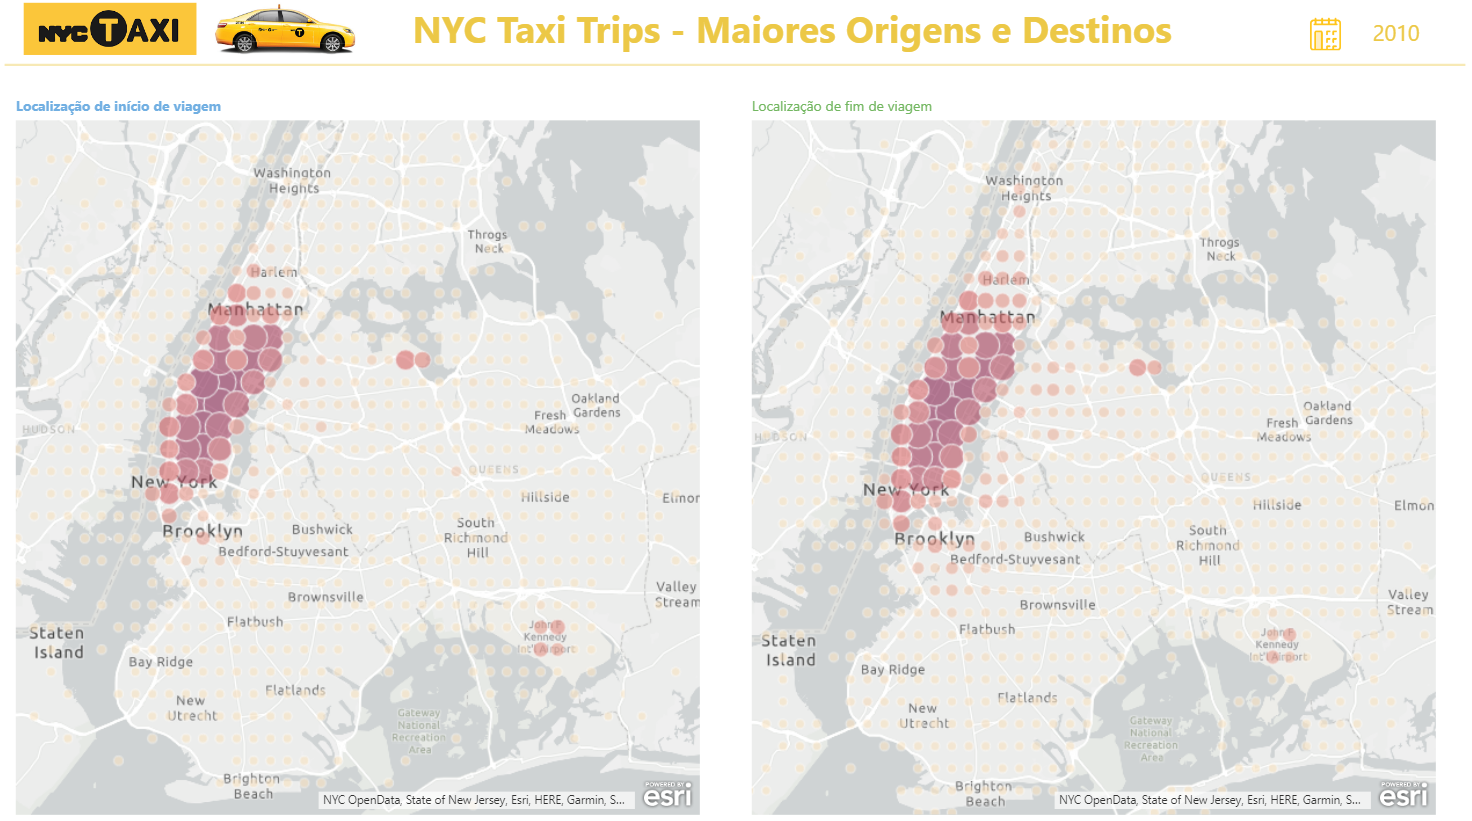

What the dashboard file says about the page in this screenshot:
{"tool":"powerbi","page":{"name":"Mapas","canvas":[1280,720],"ordinal":1},"visuals":[{"type":"image","box":[9.7,0,182.4,55],"z":0},{"type":"basicShape","box":[0,50,1280,16.9],"z":1000},{"type":"textbox","box":[344.9,0,697.4,55.3],"z":18000},{"type":"image","box":[1127.7,12.6,42.7,37.7],"z":20000},{"type":"image","box":[178.3,0,148.2,55.3],"z":21000},{"type":"esriVisual","title":"Localização de início de viagem","fields":{"Latitude":["nyctaxi-tripini.lat_ini"],"Longitude":["nyctaxi-tripini.lon_ini"],"Color":["Sum(nyctaxi-tripini.trip_count)"],"Size":["Sum(nyctaxi-tripini.trip_count)"]},"box":[15,85,600,625],"z":21001},{"type":"esriVisual","title":"Localização de fim de viagem","fields":{"Latitude":["nyctaxi-tripfim.lat_fim"],"Longitude":["nyctaxi-tripfim.lon_fim"],"Color":["nyctaxi-tripfim.trip_count"],"Size":["Sum(nyctaxi-tripfim.trip_count)"]},"box":[649.8,85,600,625],"z":21002},{"type":"textbox","box":[1170.4,12.6,79.5,40.2],"z":21003}]}

Visuals, with their boxes in screenshot pixels (x1, y1, x2, y2), scaled from the page's 1280x720 canvas onto the 1472x821 screenshot:
image: detection(11, 0, 221, 63)
basicShape: detection(0, 57, 1471, 76)
textbox: detection(397, 0, 1199, 63)
image: detection(1297, 14, 1346, 57)
image: detection(205, 0, 375, 63)
"Localização de início de viagem" esriVisual: detection(17, 97, 707, 810)
"Localização de fim de viagem" esriVisual: detection(747, 97, 1437, 810)
textbox: detection(1346, 14, 1437, 60)
